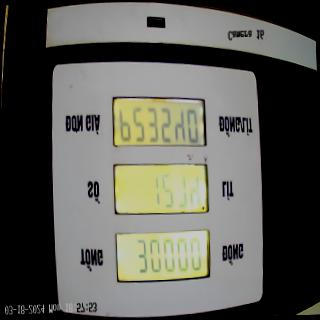screen: (108, 92, 215, 286)
